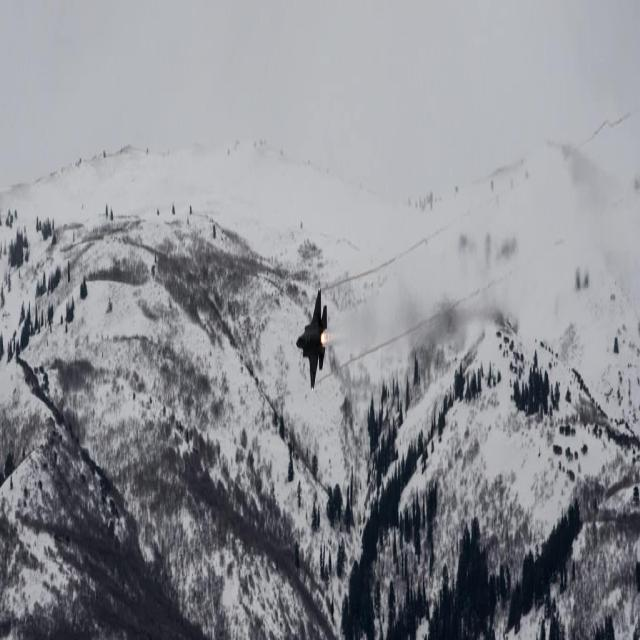MIL_Plane: (295, 286, 327, 391)
